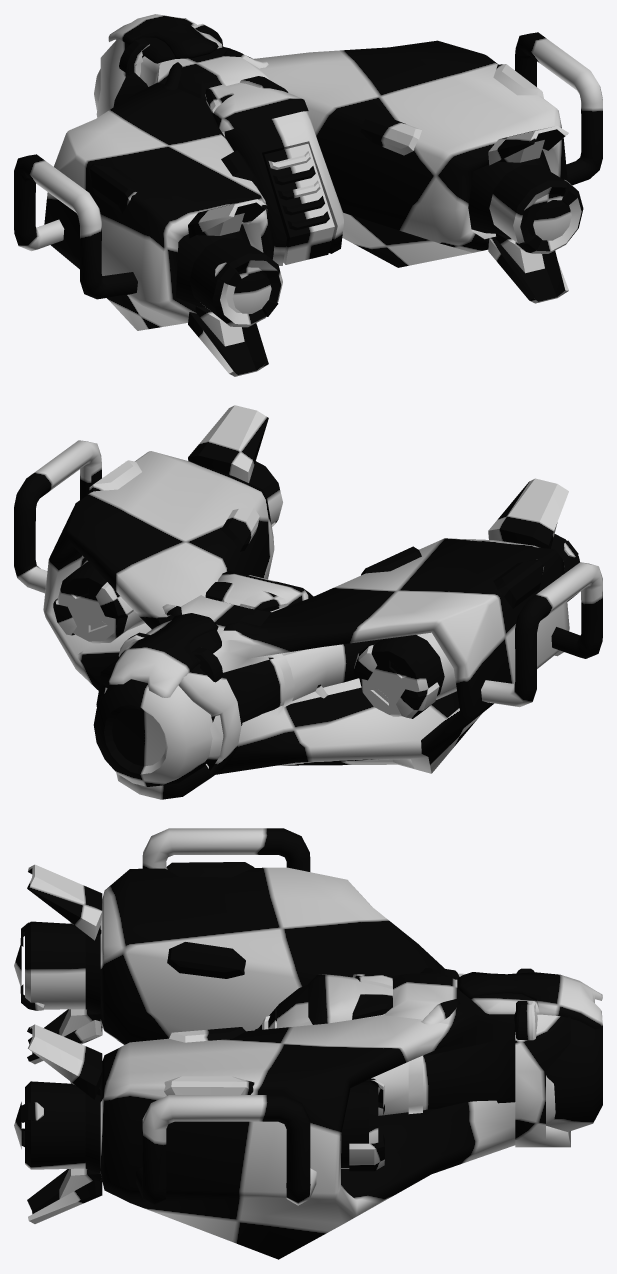
The model's file is pet_pusat.obj.
3 renders of one model, top to bottom at view 1: azimuth 30°, elevation 25°; view 2: azimuth 150°, elevation 25°; view 3: azimuth 270°, elevation 25°, orthographic. The views are drawn at different scales.
Parts seen in each view (by area): view 1: pet_pusat_lowpoly; view 2: pet_pusat_lowpoly; view 3: pet_pusat_lowpoly.
Boxes of the visible parts, left/top/right/bottom form: pet_pusat_lowpoly: left=14, top=14, right=602, bottom=376; pet_pusat_lowpoly: left=14, top=405, right=602, bottom=799; pet_pusat_lowpoly: left=14, top=828, right=602, bottom=1259.
Bounding box in the file's own units: 48.27 × 18.69 × 43.17.
1 material, 1 textured.
